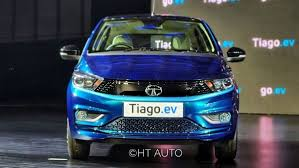Tiago: (58, 13, 246, 162)
